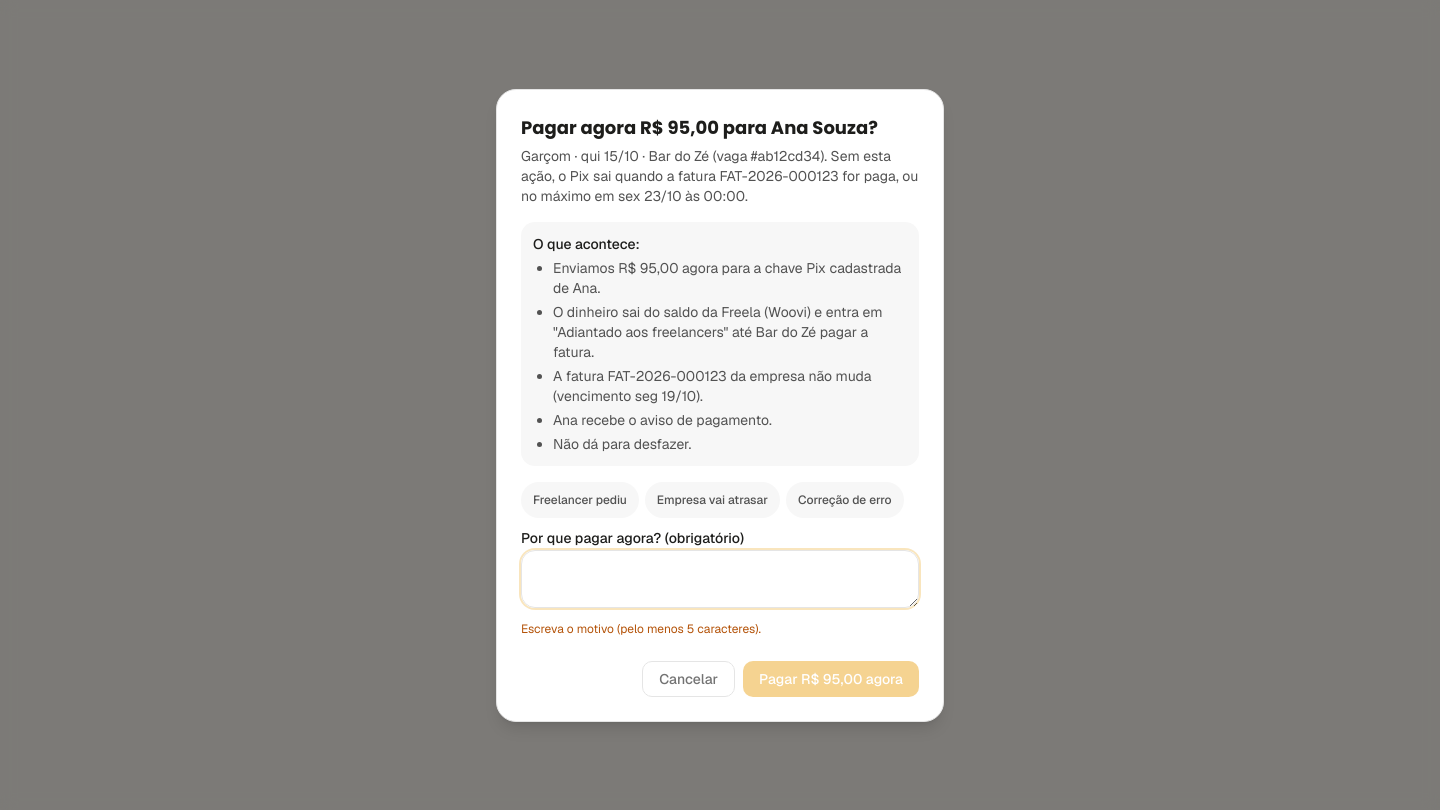
Test case: ReleasePayoutDialog › 409 já liberado: a mensagem fica no diálogo, que não fecha
Type "Freelancer pediu" into the text box labelled "Por que pagar agora? (obrigatório)" at [720, 578], box 521,550 -> 919,608
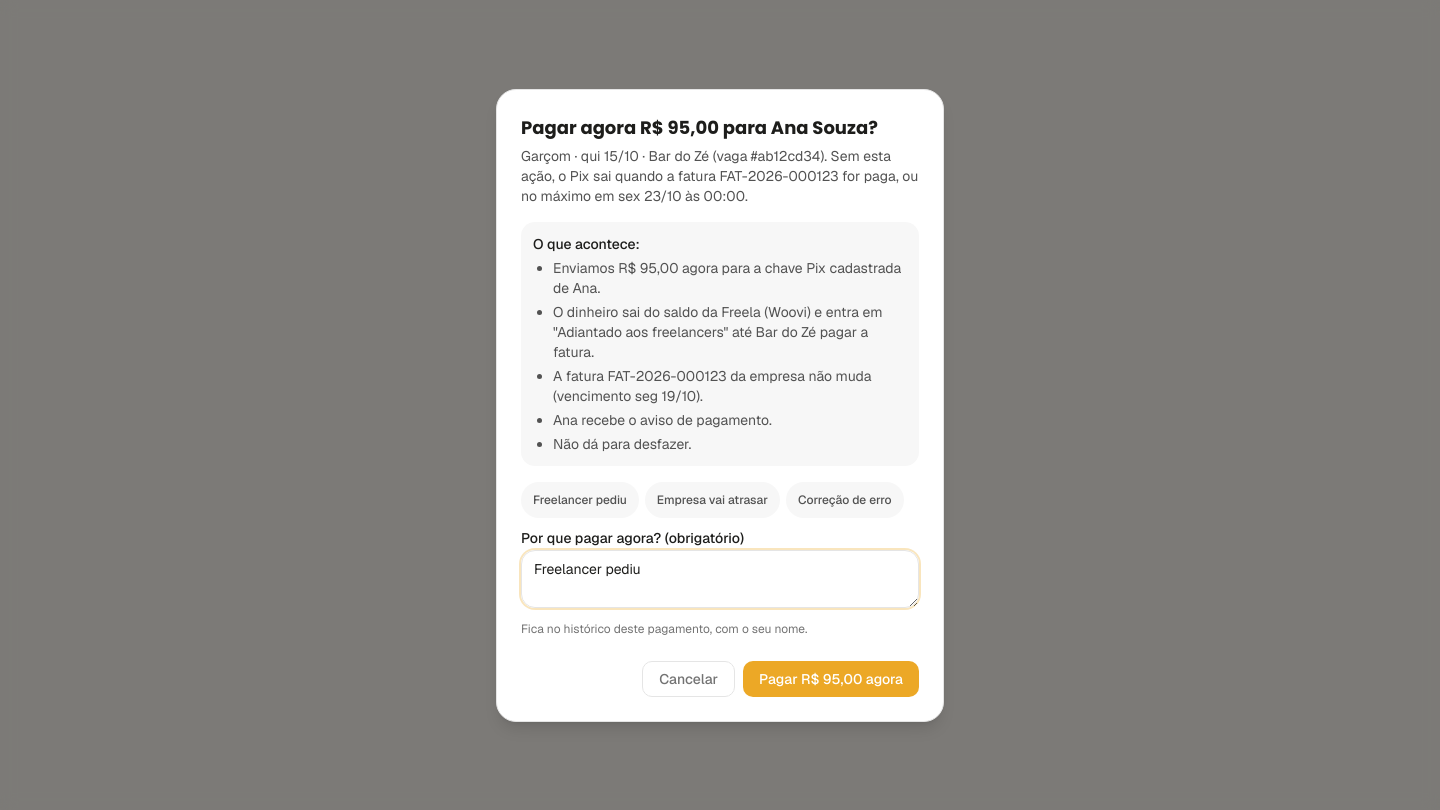
Click the button "Pagar R$ 95,00 agora" at [831, 678], box 743,660 -> 919,696
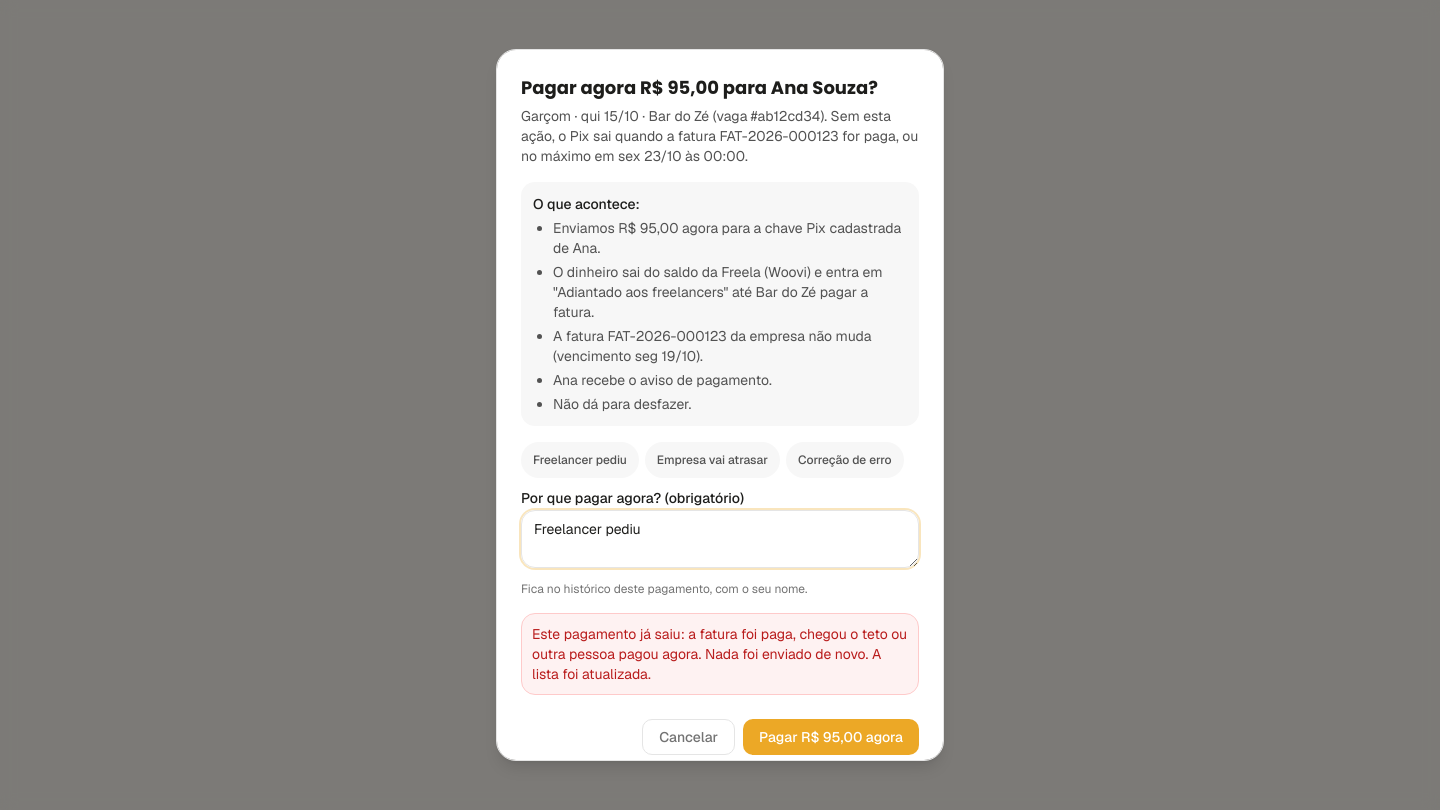
expect the message shows "Este pagamento já saiu: a fatura foi paga, chegou o teto ou outra pessoa pagou agora. Nada foi enviado de novo.": met, box 532,625 -> 907,683
